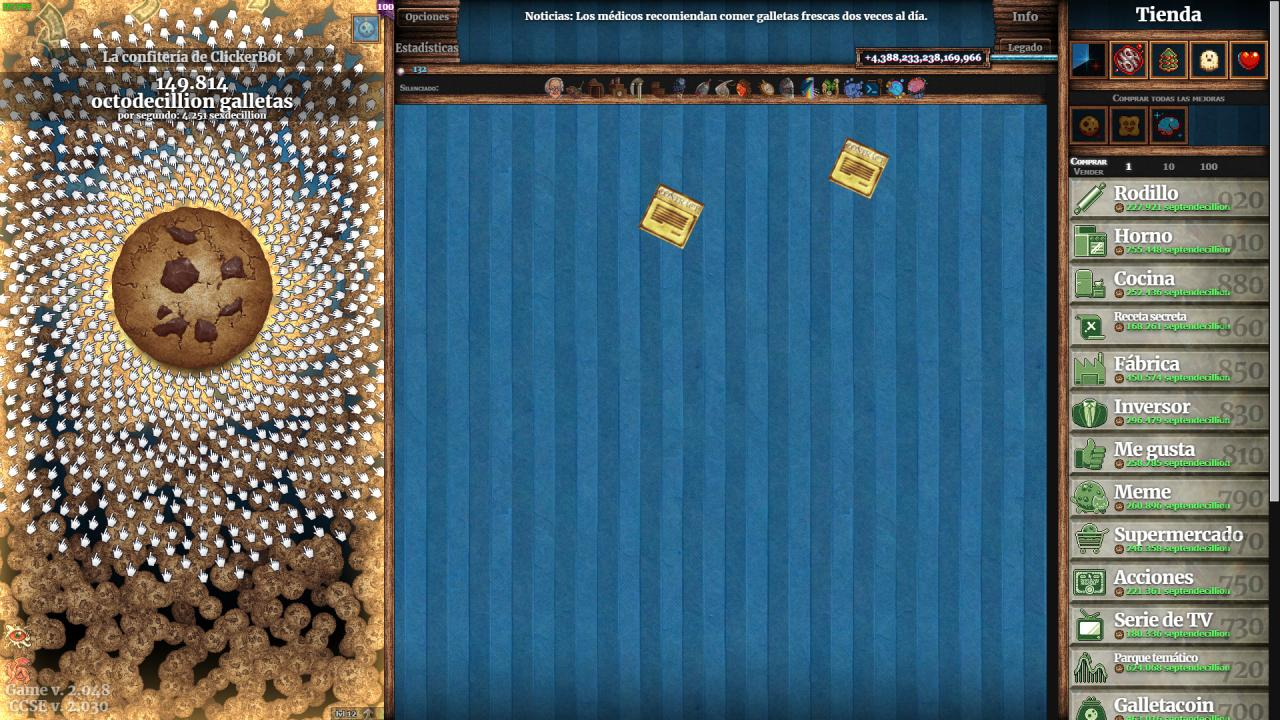GoldenCartridge: (637, 182, 707, 252), (826, 135, 892, 200)
